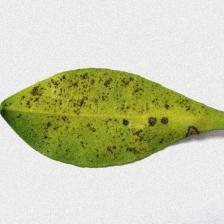canker: (43, 75, 124, 158)
